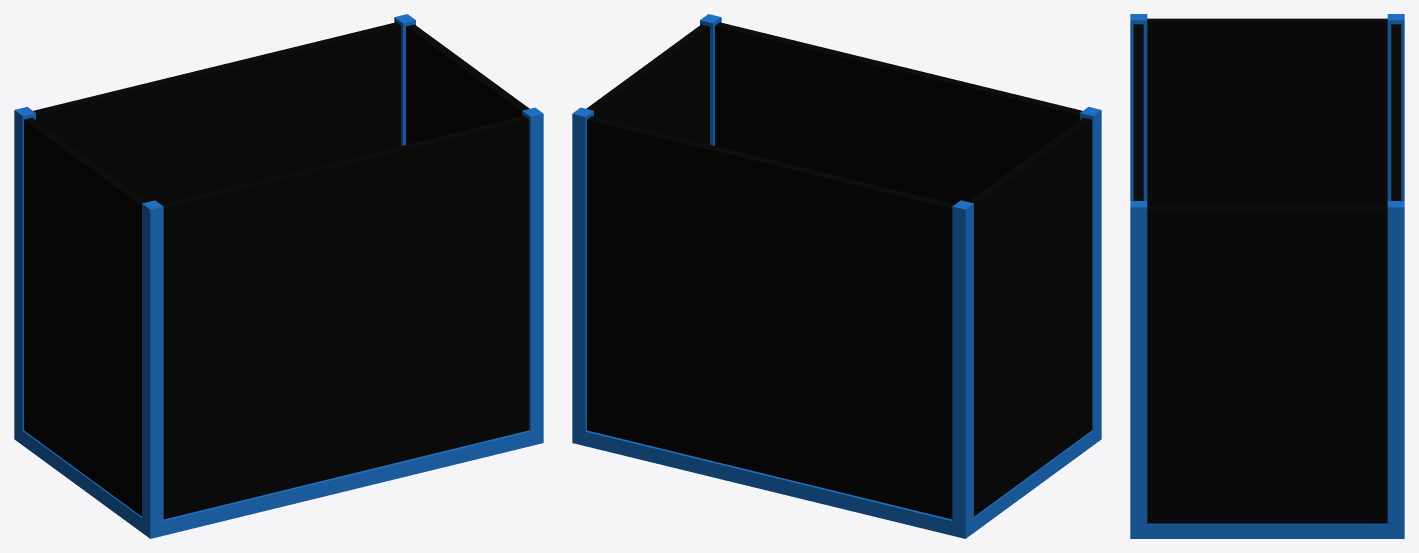
The model's file is SM_aquarium_2.fbx.
3 views of the same model, side by side, from view 1: azimuth 30°, elevation 25°; view 2: azimuth 150°, elevation 25°; view 3: azimuth 270°, elevation 25° (orthographic).
Parts seen in each view (by area): view 1: Cube_28; view 2: Cube_28; view 3: Cube_28.
Part boxes in pixels (<box>): Cube_28: <box>14,14,543,538</box>; Cube_28: <box>572,14,1101,538</box>; Cube_28: <box>1130,14,1404,538</box>.
Bounding box in the file's own units: 50 × 40 × 30.
